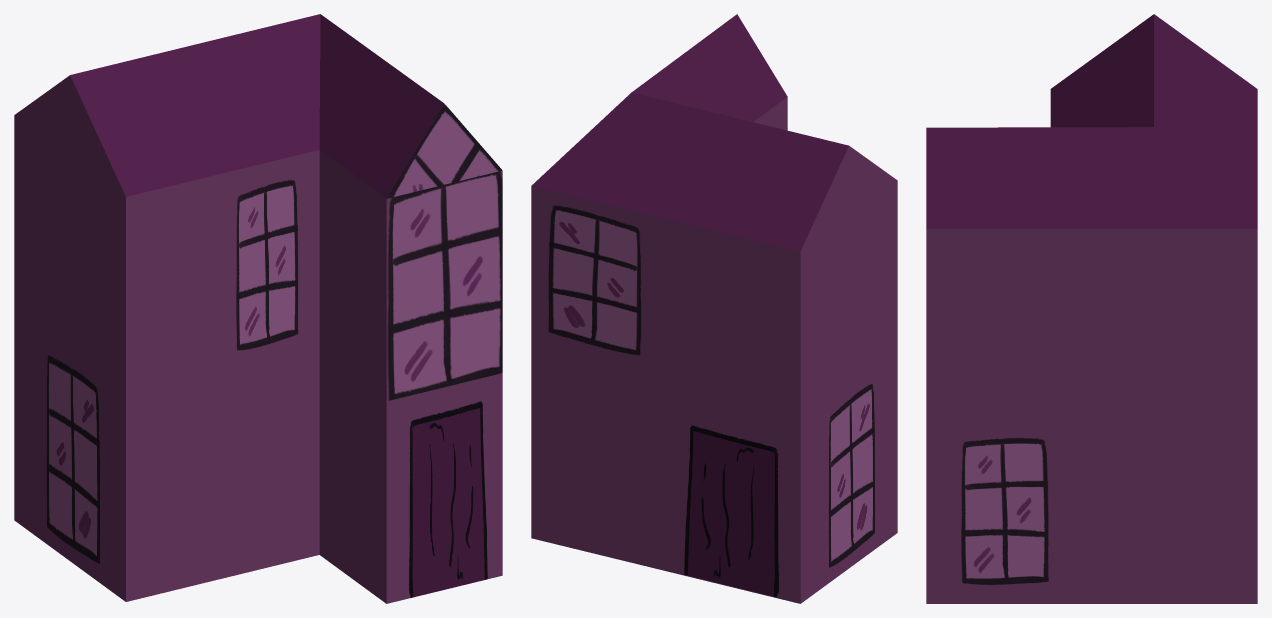
File: House_1.fbx
3 views of the same model, side by side, from view 1: azimuth 30°, elevation 25°; view 2: azimuth 150°, elevation 25°; view 3: azimuth 270°, elevation 25° (orthographic). The views are drawn at different scales.
Parts seen in each view (by area): view 1: Cube.004; view 2: Cube.004; view 3: Cube.004.
Boxes of the visible parts, x1=… form: Cube.004: x1=14, y1=14, x2=502, y2=603; Cube.004: x1=531, y1=14, x2=897, y2=603; Cube.004: x1=926, y1=14, x2=1257, y2=603.
Size of the model in its own units: 669 by 1004 by 669.
